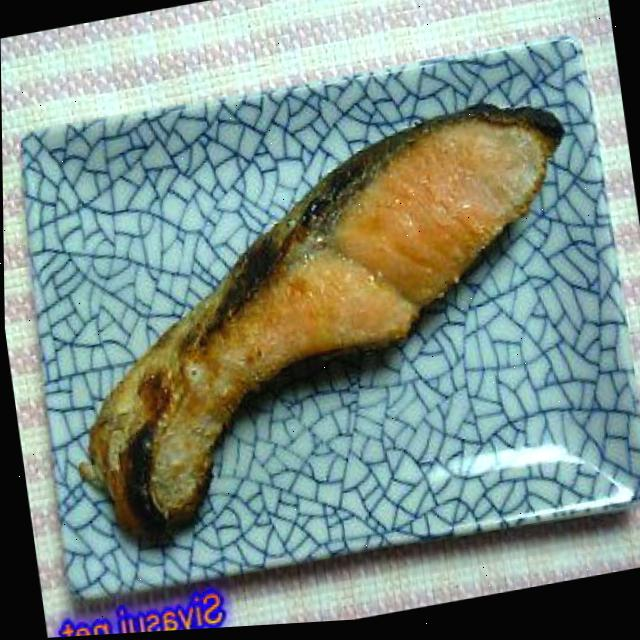熟制海鲜: (16, 41, 640, 569)
